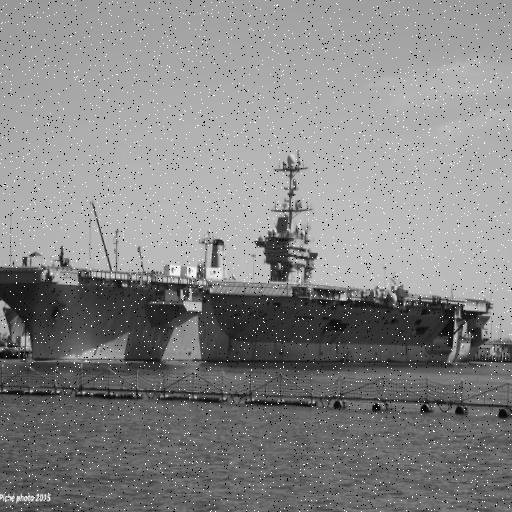Portanaves: (1, 149, 497, 369)
